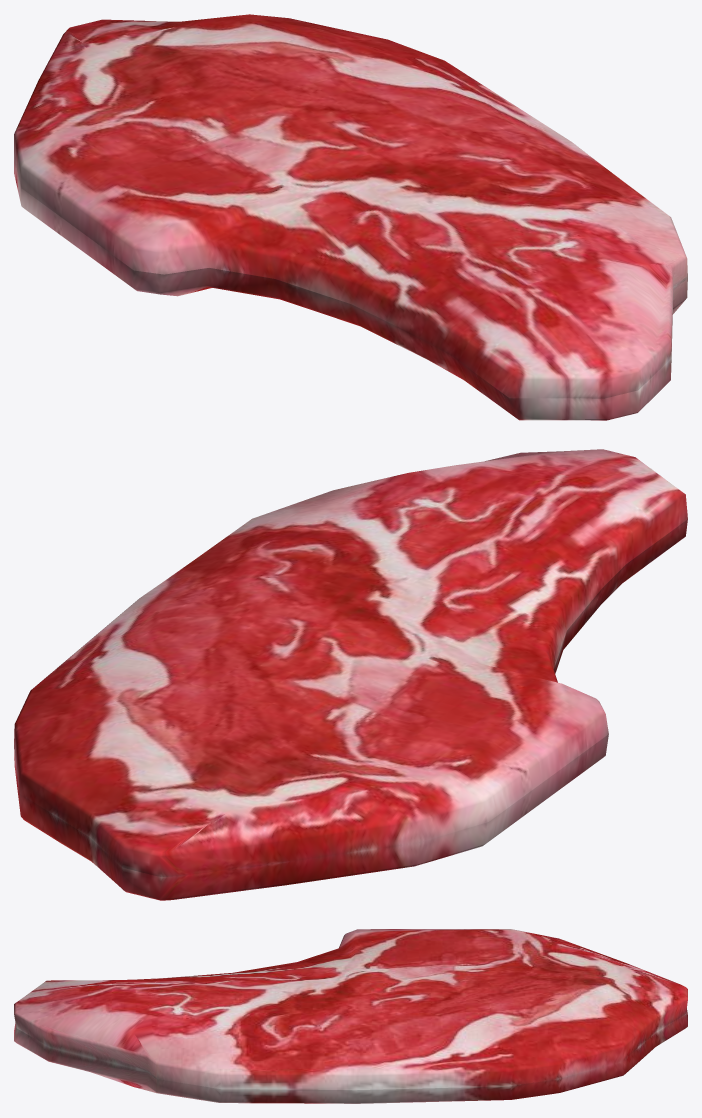
File: rabbit meat.fbx
The picture shows the model from 3 angles, top to bottom: view 1: azimuth 30°, elevation 25°; view 2: azimuth 150°, elevation 25°; view 3: azimuth 270°, elevation 25°; orthographic projection. The views are drawn at different scales.
Visible parts, largest first — view 1: Plane001_Material #25_0.001; view 2: Plane001_Material #25_0.001; view 3: Plane001_Material #25_0.001.
Boxes of the visible parts, left/top/right/bottom form: Plane001_Material #25_0.001: left=14, top=14, right=687, bottom=420; Plane001_Material #25_0.001: left=14, top=449, right=687, bottom=900; Plane001_Material #25_0.001: left=14, top=929, right=687, bottom=1103.
Bounding box in the file's own units: 122 × 25.06 × 237.
